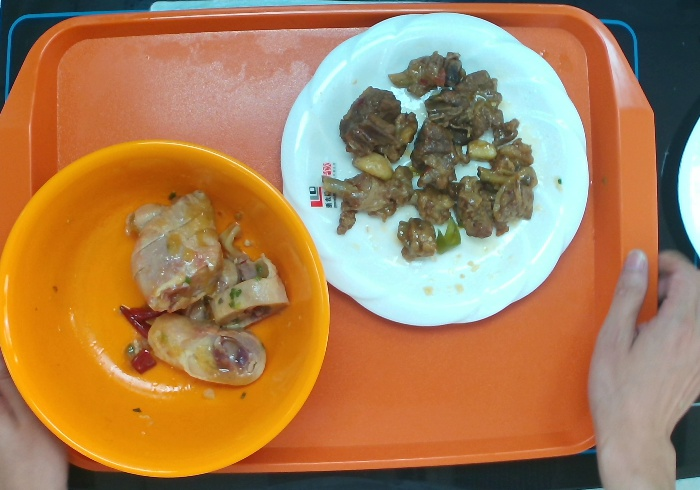ZNLD-Hua_Bian_Wan: (276, 8, 591, 332)
ZNLD-Ju_Se_Tang_Wan: (1, 136, 334, 482)
